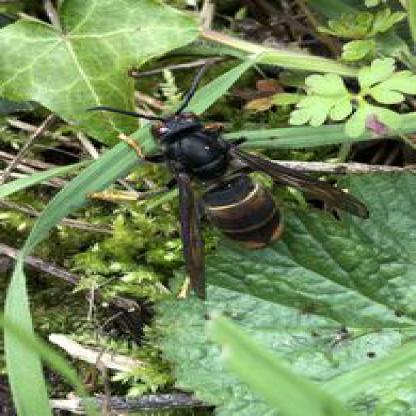Asian Hornet: (92, 48, 377, 297)
